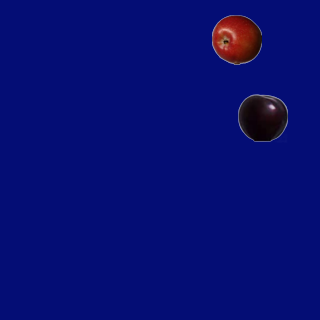Apple Braeburn: (211, 14, 261, 64)
Cherry Wax Black: (237, 92, 287, 142)
